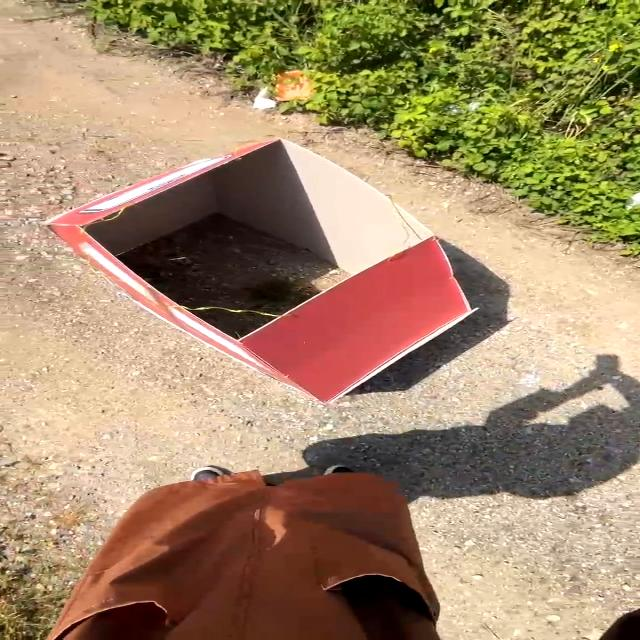red_car: (1, 130, 530, 411)
